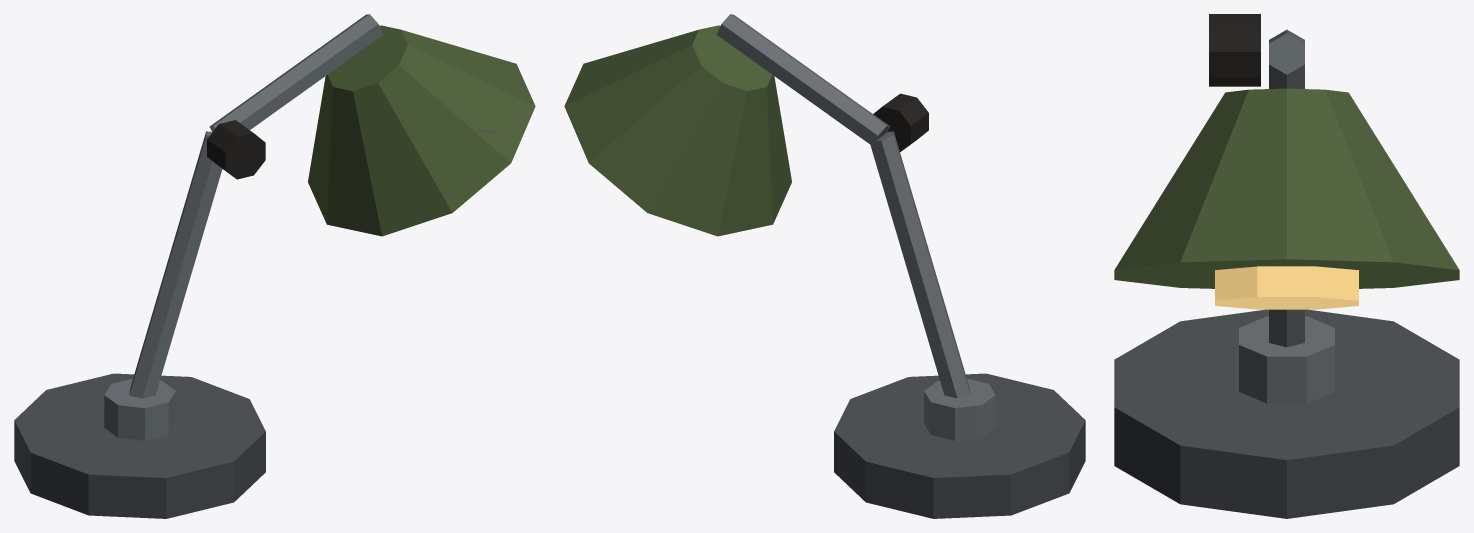
The model's file is lamp_ceiling_nastolnaya_idle.glb.
The picture shows the model from 3 angles, left to right: view 1: azimuth 30°, elevation 25°; view 2: azimuth 150°, elevation 25°; view 3: azimuth 270°, elevation 25°; orthographic projection. The views are drawn at different scales.
Visible parts, largest first — view 1: lamp_ceiling_nastolnaya_idle; view 2: lamp_ceiling_nastolnaya_idle; view 3: lamp_ceiling_nastolnaya_idle.
Boxes of the visible parts, x1,y1,x2,y2 form: lamp_ceiling_nastolnaya_idle: [14, 14, 535, 518]; lamp_ceiling_nastolnaya_idle: [564, 14, 1085, 518]; lamp_ceiling_nastolnaya_idle: [1114, 14, 1459, 518].
Size of the model in its own units: 0.3106 by 0.2423 by 0.1331.
Materials: 2 (2 with a texture image).
